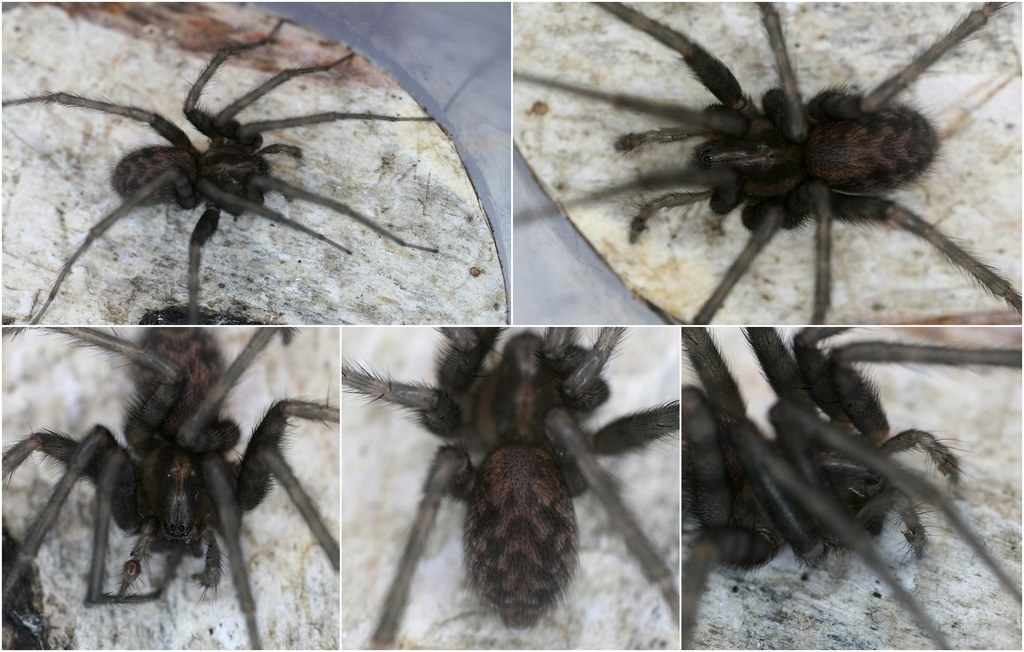insect: (510, 0, 1023, 329), (511, 0, 1023, 320), (2, 2, 508, 325), (0, 16, 438, 325), (0, 16, 436, 326), (675, 313, 1023, 646), (0, 314, 337, 651), (340, 327, 684, 651), (683, 327, 1023, 651), (0, 326, 337, 651), (339, 322, 670, 649)
